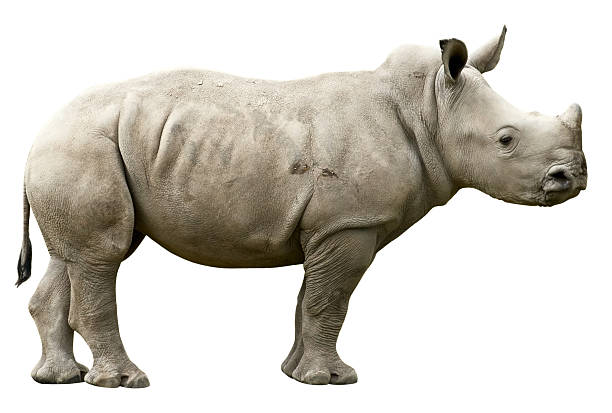rhino: (401, 18, 598, 224)
